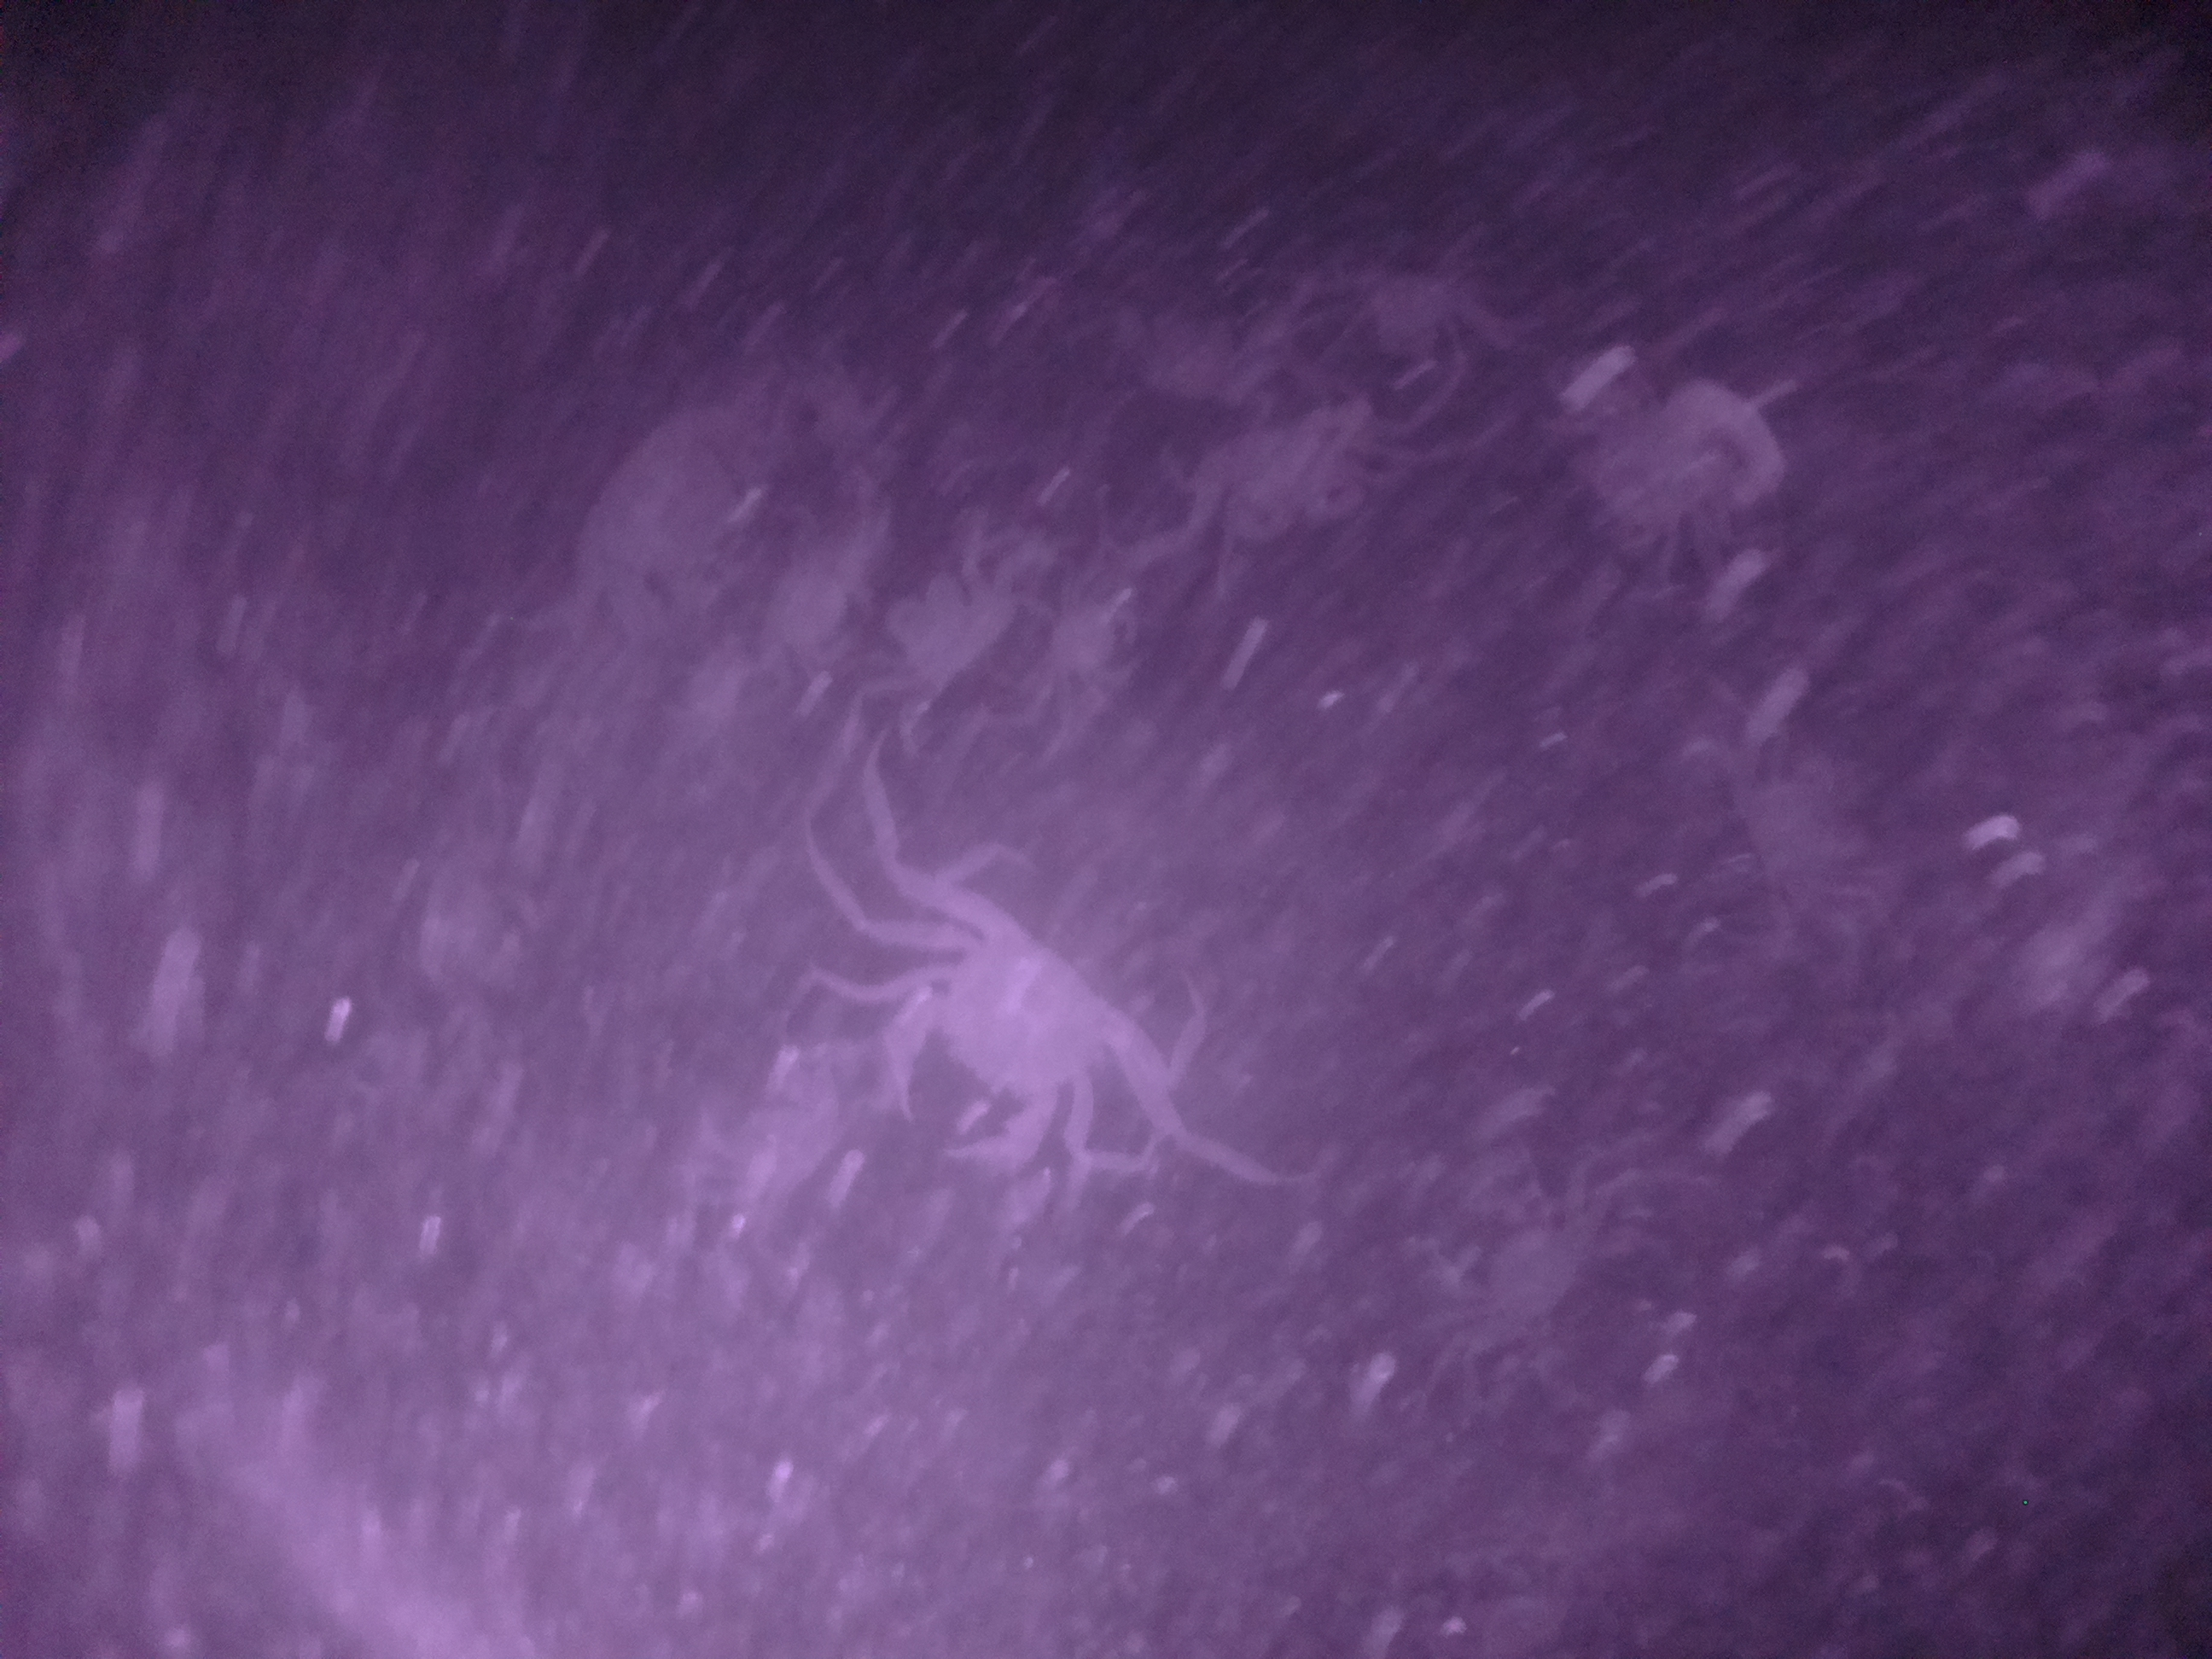Crab: (1418, 1150, 1627, 1385), (1716, 706, 1876, 917)
